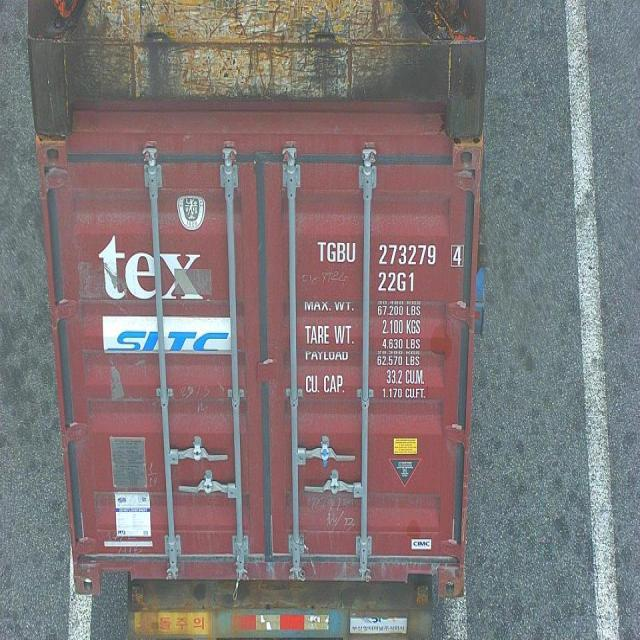ISO: (376, 274, 420, 294)
container_number: (315, 233, 464, 264)
